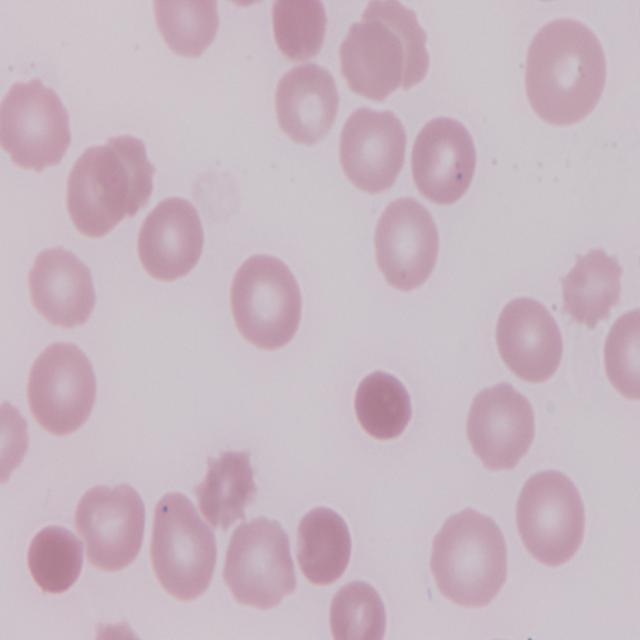RBC: (520, 14, 612, 130), (430, 505, 513, 608), (146, 491, 220, 602), (514, 467, 588, 569), (24, 337, 99, 437), (220, 511, 296, 609), (227, 254, 301, 354), (73, 480, 151, 573), (371, 197, 444, 296), (1, 75, 74, 174), (336, 104, 411, 199), (490, 292, 564, 385), (466, 380, 539, 473), (135, 193, 208, 284), (410, 115, 483, 206), (24, 242, 98, 330), (274, 60, 343, 150), (561, 242, 626, 332), (148, 0, 224, 66), (603, 300, 640, 407), (330, 579, 391, 640), (0, 396, 32, 494)
Spherocyte: (294, 505, 356, 587), (354, 368, 416, 443), (26, 520, 86, 595), (272, 0, 330, 67)
